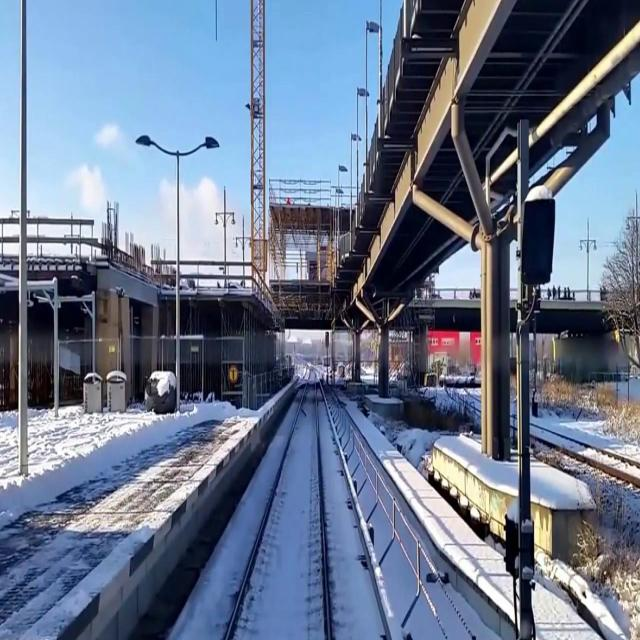rail-track: (229, 373, 326, 639)
